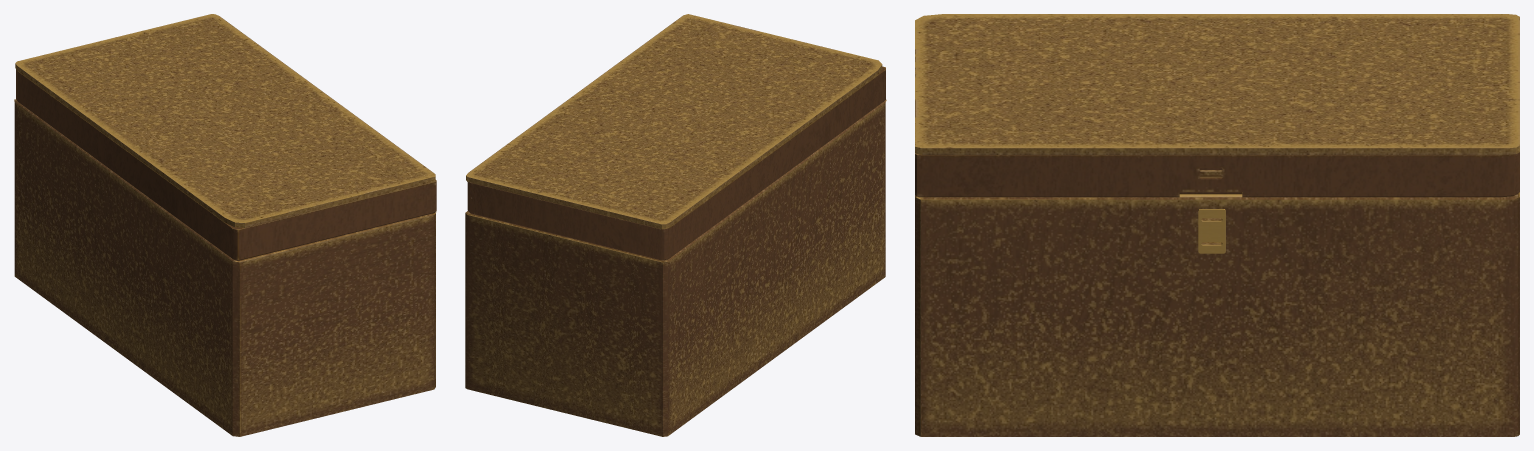
File: Baul1.fbx
3 renders of one model, left to right at view 1: azimuth 30°, elevation 25°; view 2: azimuth 150°, elevation 25°; view 3: azimuth 270°, elevation 25°, orthographic. The views are drawn at different scales.
Visible parts, largest first — view 1: Baul.001; view 2: Baul.001; view 3: Baul.001.
Boxes of the visible parts, x1=… form: Baul.001: x1=14, y1=14, x2=436, y2=436; Baul.001: x1=465, y1=14, x2=886, y2=436; Baul.001: x1=915, y1=14, x2=1519, y2=436.
Bounding box in the file's own units: 104 × 104 × 197.
1 material, 1 textured.
